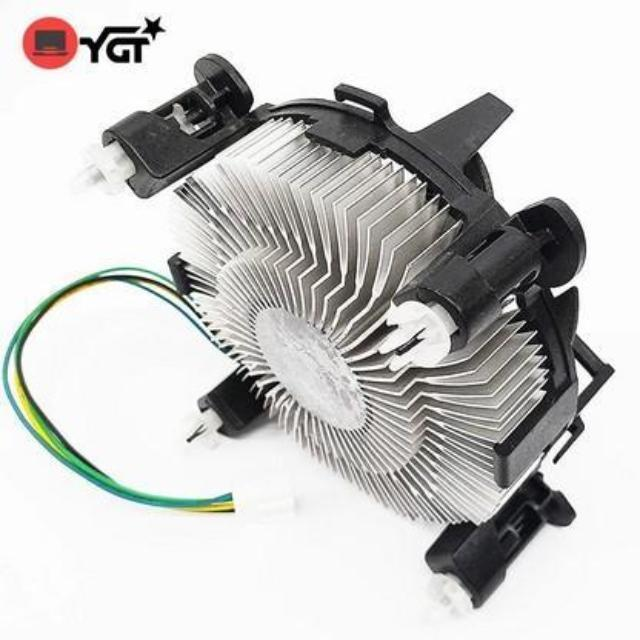CPU_Fan: (90, 54, 608, 591)
